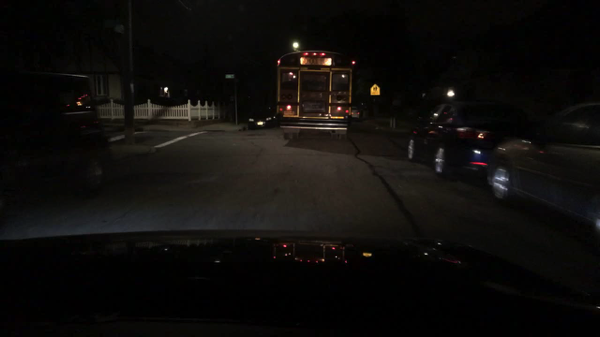bus: (277, 52, 355, 142)
car: (0, 72, 117, 202), (486, 102, 599, 233), (407, 98, 539, 185), (246, 104, 277, 130), (350, 106, 361, 120)
traffic sign: (370, 84, 380, 96), (116, 24, 125, 33), (226, 75, 234, 78)
